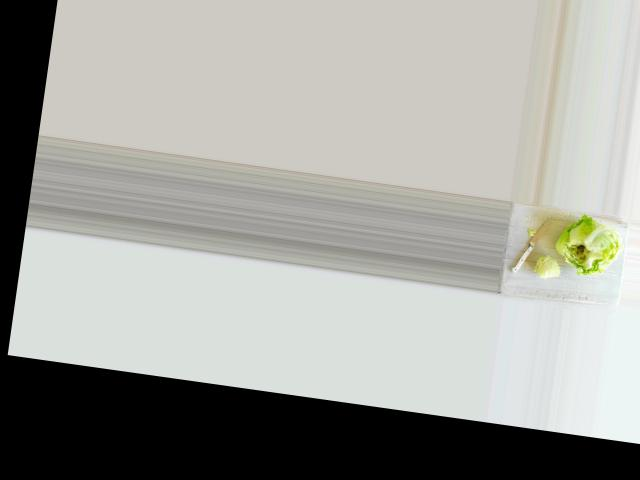lettuce: (558, 215, 628, 280)
